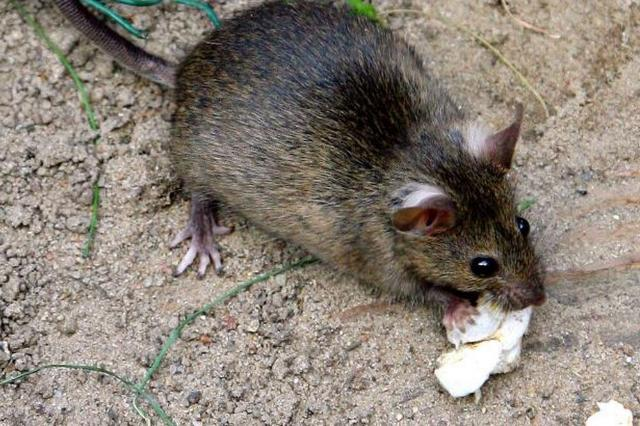rat: (152, 0, 558, 332)
